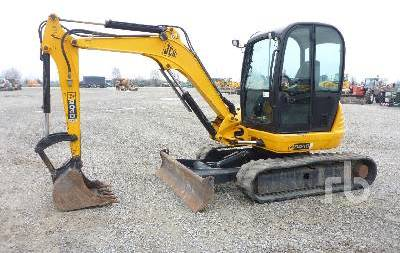backhoe: (30, 6, 376, 222)
